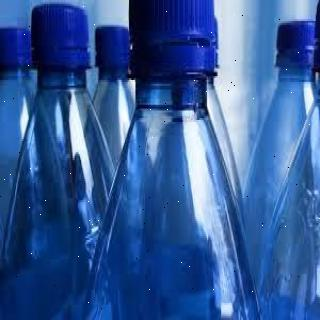Plastic-bottle: (86, 3, 263, 320), (2, 3, 119, 320), (261, 1, 320, 320), (244, 18, 320, 264), (82, 18, 142, 176), (1, 26, 35, 266)
